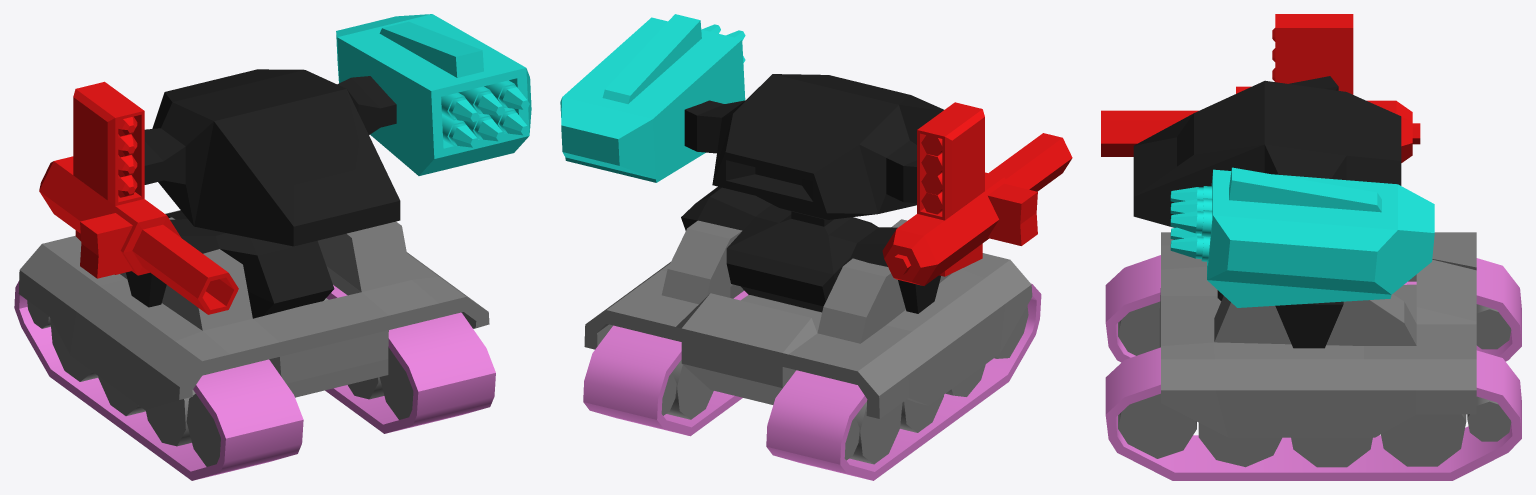
File: MechWithTankTreads01.FBX
3 renders of one model, left to right at view 1: azimuth 30°, elevation 25°; view 2: azimuth 150°, elevation 25°; view 3: azimuth 270°, elevation 25°, orthographic. The views are drawn at different scales.
Visible parts, largest first — view 1: Box012, Object006, Cylinder025, Box009, Box013, Box010, Box008, Cylinder045, Cylinder046, Cylinder040, Cylinder048, Cylinder047 (+1 smaller); view 2: Box012, Object006, Box009, Cylinder025, Box008, Box013, Box010, Cylinder048, Cylinder043, Cylinder047, Cylinder045; view 3: Box012, Box009, Object006, Box010, Cylinder025, Box013, Cylinder043, Cylinder040, Box008, Cylinder041, Cylinder042, Cylinder045 (+4 smaller).
Boxes of the visible parts, <box> form: Box012: <box>18,210,489,409</box>; Object006: <box>144,69,400,246</box>; Cylinder025: <box>39,81,238,314</box>; Box009: <box>336,14,531,175</box>; Box013: <box>14,280,303,480</box>; Box010: <box>325,285,495,433</box>; Box008: <box>125,210,334,318</box>; Cylinder045: <box>186,393,220,466</box>; Cylinder046: <box>145,390,195,446</box>; Cylinder040: <box>379,347,413,419</box>; Cylinder048: <box>50,319,98,381</box>; Cylinder047: <box>98,376,145,416</box>; Box012: <box>584,219,1032,418</box>; Object006: <box>684,74,943,219</box>; Box009: <box>560,14,745,182</box>; Cylinder025: <box>882,102,1072,285</box>; Box008: <box>681,186,940,313</box>; Box013: <box>766,283,1041,480</box>; Box010: <box>583,290,748,436</box>; Cylinder048: <box>849,401,902,464</box>; Cylinder043: <box>666,360,713,419</box>; Cylinder047: <box>900,395,943,432</box>; Cylinder045: <box>994,305,1028,358</box>; Box012: <box>1159,232,1476,437</box>; Box009: <box>1207,167,1434,307</box>; Object006: <box>1133,76,1401,227</box>; Box010: <box>1105,347,1521,480</box>; Cylinder025: <box>1101,14,1420,162</box>; Box013: <box>1105,255,1521,362</box>; Cylinder043: <box>1381,414,1466,466</box>; Cylinder040: <box>1118,393,1196,458</box>; Box008: <box>1217,290,1343,348</box>; Cylinder041: <box>1198,423,1281,467</box>; Cylinder042: <box>1291,437,1372,467</box>; Cylinder045: <box>1118,301,1159,355</box>.
Size of the model in its own units: 561 by 483 by 412.
